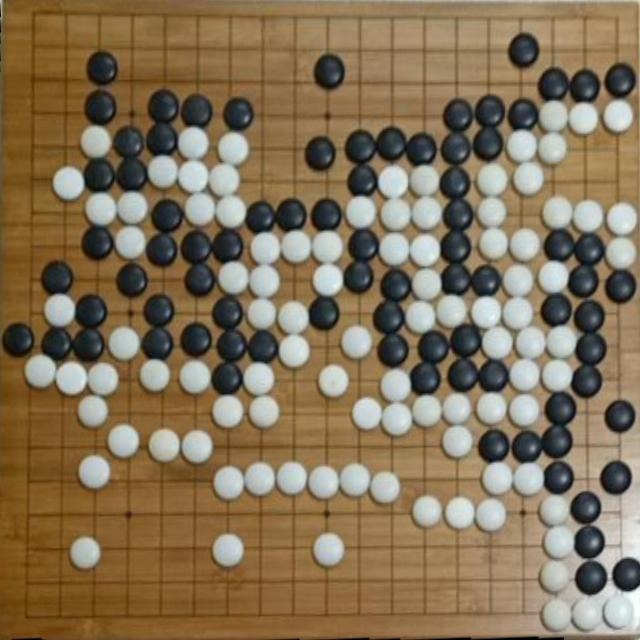blackstone: (84, 90, 118, 126), (574, 560, 608, 596), (75, 294, 109, 329), (83, 158, 117, 193), (115, 157, 149, 192), (72, 328, 106, 362), (142, 294, 176, 328), (145, 234, 179, 268), (150, 199, 184, 233), (147, 90, 181, 124), (572, 232, 606, 266), (539, 294, 573, 328), (2, 323, 35, 358), (116, 263, 149, 298), (604, 63, 637, 98), (571, 364, 604, 399), (540, 424, 573, 459), (567, 263, 600, 298), (600, 460, 632, 496), (41, 261, 74, 295), (86, 51, 119, 85), (81, 226, 114, 260), (544, 391, 577, 425), (180, 94, 213, 128), (184, 263, 217, 297), (180, 230, 213, 264), (211, 229, 244, 263), (372, 301, 406, 334), (112, 126, 146, 159), (447, 358, 480, 392), (574, 332, 607, 366), (180, 323, 212, 358), (41, 327, 73, 362), (314, 54, 346, 89), (450, 323, 482, 358), (141, 327, 174, 360), (275, 198, 308, 231), (379, 269, 412, 302), (409, 361, 442, 394), (439, 166, 472, 199), (604, 270, 636, 304), (570, 491, 602, 525), (574, 525, 606, 559), (568, 68, 600, 102), (538, 67, 570, 101), (508, 33, 540, 67), (511, 430, 543, 464), (573, 299, 605, 333), (344, 130, 376, 164), (544, 228, 576, 262), (405, 132, 437, 166), (376, 127, 408, 161), (472, 126, 504, 160), (440, 131, 472, 165), (146, 122, 178, 156), (604, 400, 636, 433), (478, 429, 510, 462), (543, 461, 575, 494), (308, 298, 341, 330), (342, 261, 374, 294), (378, 334, 410, 367), (211, 296, 243, 329), (247, 330, 279, 363), (418, 331, 450, 364), (223, 98, 255, 130), (210, 363, 242, 395), (311, 199, 343, 231), (507, 98, 539, 130), (216, 330, 248, 362), (348, 229, 380, 261), (440, 262, 472, 294), (440, 230, 472, 262), (478, 360, 510, 392), (442, 198, 474, 230), (305, 137, 336, 170), (347, 164, 378, 197), (469, 265, 502, 296), (611, 557, 640, 592), (443, 99, 474, 131), (474, 95, 506, 126), (245, 201, 276, 232)
whitestone: (106, 424, 141, 460), (55, 361, 89, 397), (77, 454, 111, 490), (52, 166, 86, 202), (24, 354, 58, 390), (540, 598, 574, 634), (148, 428, 182, 463), (312, 533, 346, 568), (212, 533, 246, 568), (108, 326, 141, 362), (213, 465, 246, 501), (244, 462, 277, 498), (339, 463, 372, 499), (571, 597, 604, 633), (603, 594, 636, 630), (77, 394, 111, 428), (248, 264, 282, 298), (444, 496, 478, 530), (208, 162, 242, 196), (542, 526, 576, 560), (87, 362, 120, 397), (114, 226, 147, 261), (380, 402, 413, 437), (276, 461, 309, 496), (308, 465, 341, 500), (44, 293, 77, 328), (481, 462, 514, 497), (116, 191, 149, 226), (435, 294, 468, 329), (602, 98, 635, 133), (442, 425, 475, 459), (248, 395, 281, 429), (212, 395, 245, 429), (369, 471, 402, 505), (179, 360, 212, 394), (218, 261, 251, 295), (217, 132, 250, 166), (409, 234, 442, 268), (250, 232, 283, 266), (476, 162, 509, 196), (476, 392, 509, 426), (513, 462, 546, 496), (345, 196, 378, 230), (539, 559, 572, 593), (572, 199, 605, 233), (514, 326, 547, 360), (341, 325, 373, 360), (182, 430, 214, 465), (140, 358, 172, 393), (475, 498, 507, 533), (508, 393, 540, 428), (411, 268, 443, 303), (379, 232, 411, 267), (541, 359, 573, 394), (312, 264, 345, 297), (215, 195, 248, 228), (539, 494, 572, 527), (351, 397, 383, 431), (411, 495, 443, 529), (514, 161, 546, 195), (406, 300, 438, 334), (185, 192, 217, 226), (380, 368, 412, 402), (178, 160, 210, 194), (85, 192, 117, 226), (542, 196, 574, 230), (148, 155, 180, 189), (80, 125, 112, 159), (178, 126, 210, 160), (567, 102, 599, 136), (538, 260, 570, 294), (503, 264, 535, 298), (380, 197, 412, 231), (606, 202, 638, 236), (412, 196, 444, 230), (502, 296, 534, 330), (470, 296, 502, 330), (378, 164, 410, 198), (546, 325, 578, 359), (509, 358, 541, 392), (70, 536, 102, 570), (279, 335, 311, 368), (278, 301, 310, 334), (244, 363, 276, 396), (281, 230, 313, 263), (312, 231, 344, 264), (478, 228, 510, 261), (246, 297, 278, 330), (506, 129, 538, 162), (482, 326, 514, 359), (412, 394, 443, 428), (442, 392, 473, 426), (605, 238, 637, 270), (538, 100, 570, 132), (510, 229, 541, 262), (409, 164, 440, 197), (477, 196, 508, 228), (319, 364, 348, 398), (538, 132, 568, 164)
